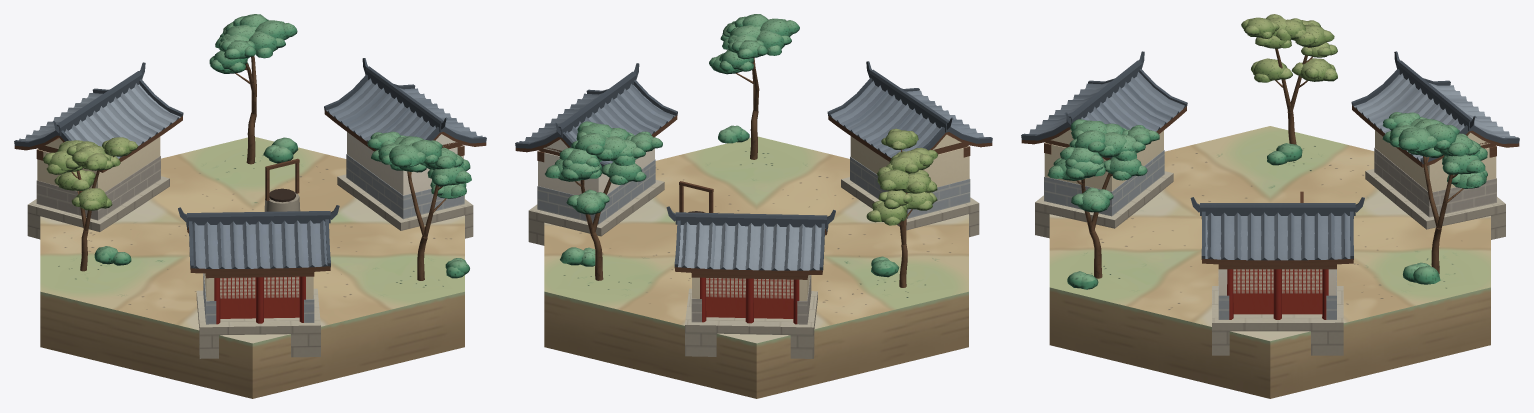
File: Hex_Town.glb
The picture shows the model from 3 angles, left to right: view 1: azimuth 30°, elevation 25°; view 2: azimuth 150°, elevation 25°; view 3: azimuth 270°, elevation 25°; orthographic projection. The views are drawn at different scales.
Visible parts, largest first — view 1: Hex_Town; view 2: Hex_Town; view 3: Hex_Town.
Part boxes in pixels (left/top/right/bottom): Hex_Town: left=14, top=14, right=486, bottom=398; Hex_Town: left=515, top=14, right=992, bottom=398; Hex_Town: left=1021, top=14, right=1519, bottom=398.
Size of the model in its own units: 8 by 3.6 by 7.83.
Materials: 2 (2 with a texture image).
